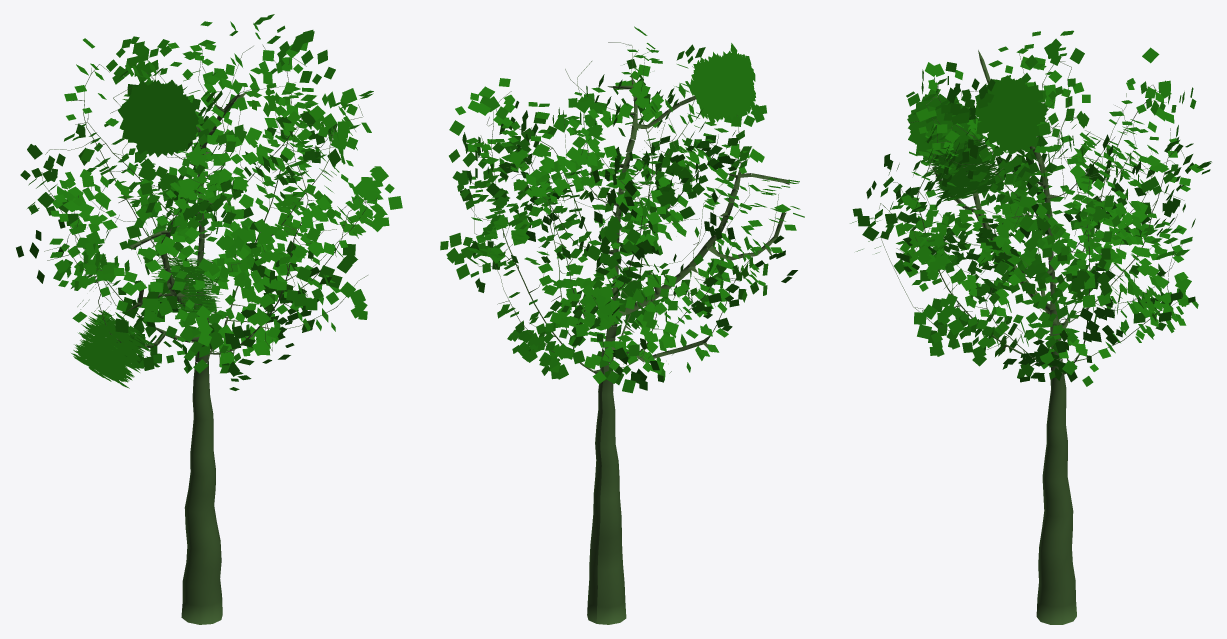
File: garden_tree.glb
3 renders of one model, left to right at view 1: azimuth 30°, elevation 25°; view 2: azimuth 150°, elevation 25°; view 3: azimuth 270°, elevation 25°, orthographic. The views are drawn at different scales.
Parts seen in each view (by area): view 1: LOD_0; view 2: LOD_0; view 3: LOD_0.
Part boxes in pixels (x1,y1,x2,y2): LOD_0: (16,14,402,624); LOD_0: (440,26,804,624); LOD_0: (850,30,1211,624).
Size of what is drawn, in the model's own units: 8.64 by 13.85 by 8.06.
